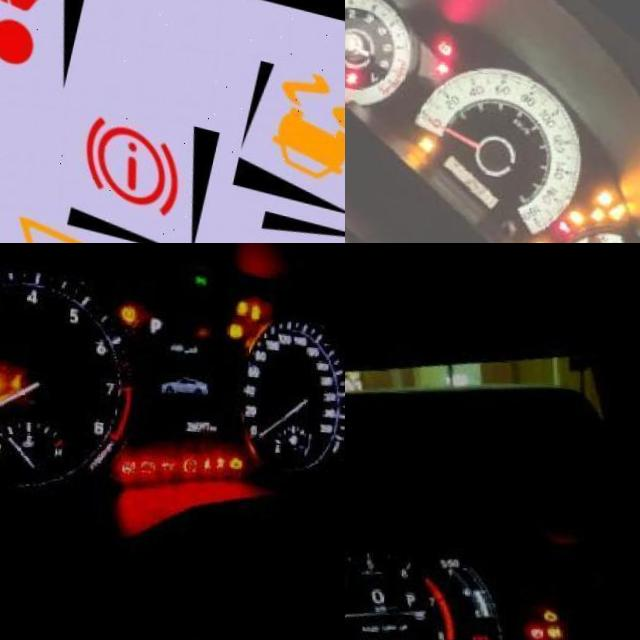Seat Belt: (197, 454, 211, 472)
